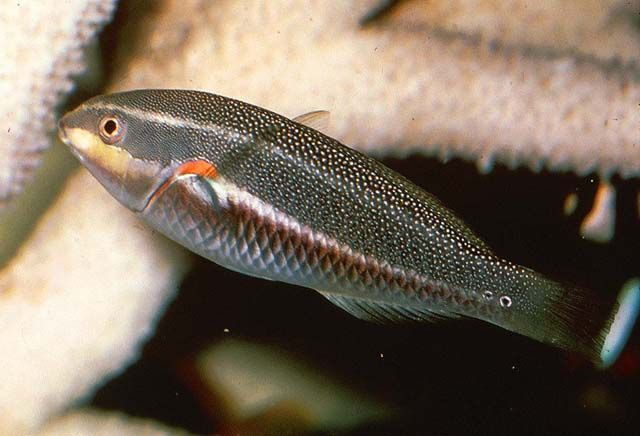fish: (56, 89, 622, 365)
